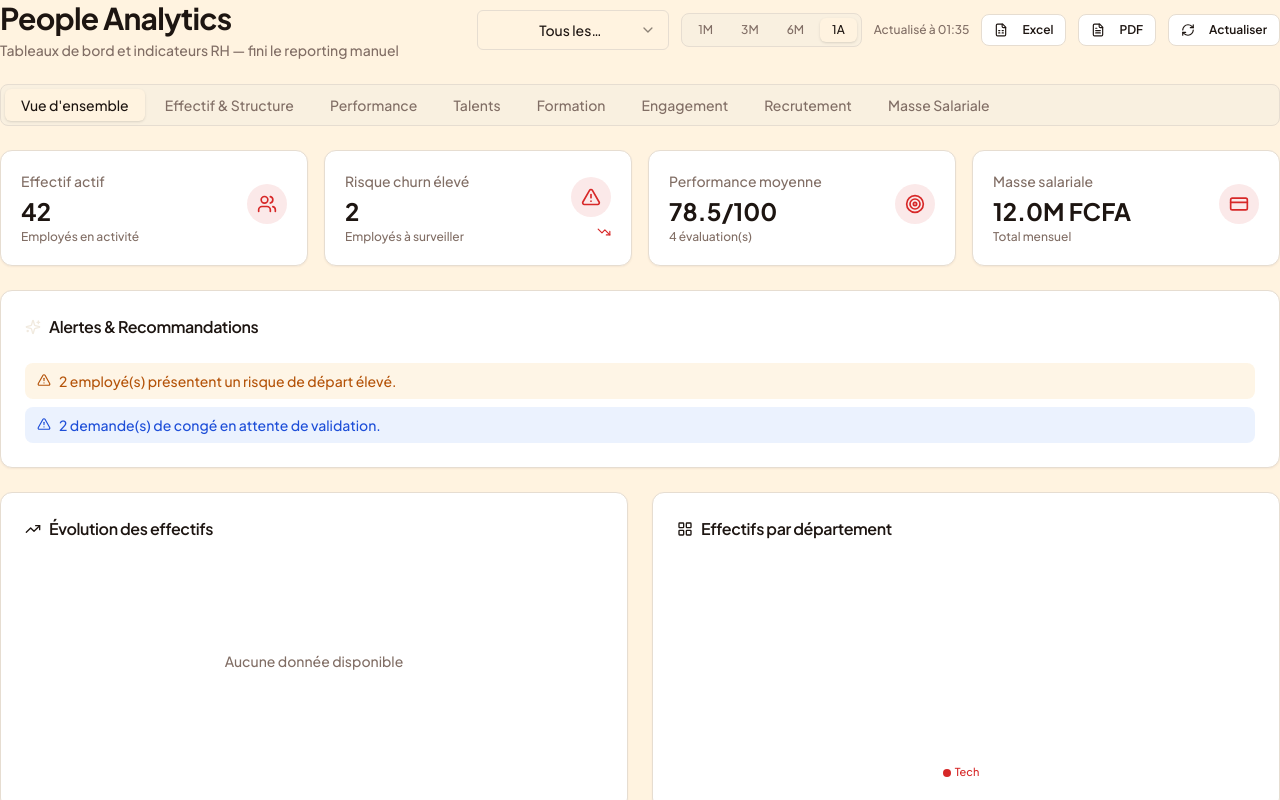
Test: AnalyticsPage › affiche la section Recrutement en changeant d'onglet
This screenshot has width=1280, height=800.
Expected: the text "Effectif actif" is shown, x1=21 y1=172 x2=105 y2=190
Click the button "Recrutement". click: (808, 105)
box: x1=748 y1=89 x2=868 y2=121
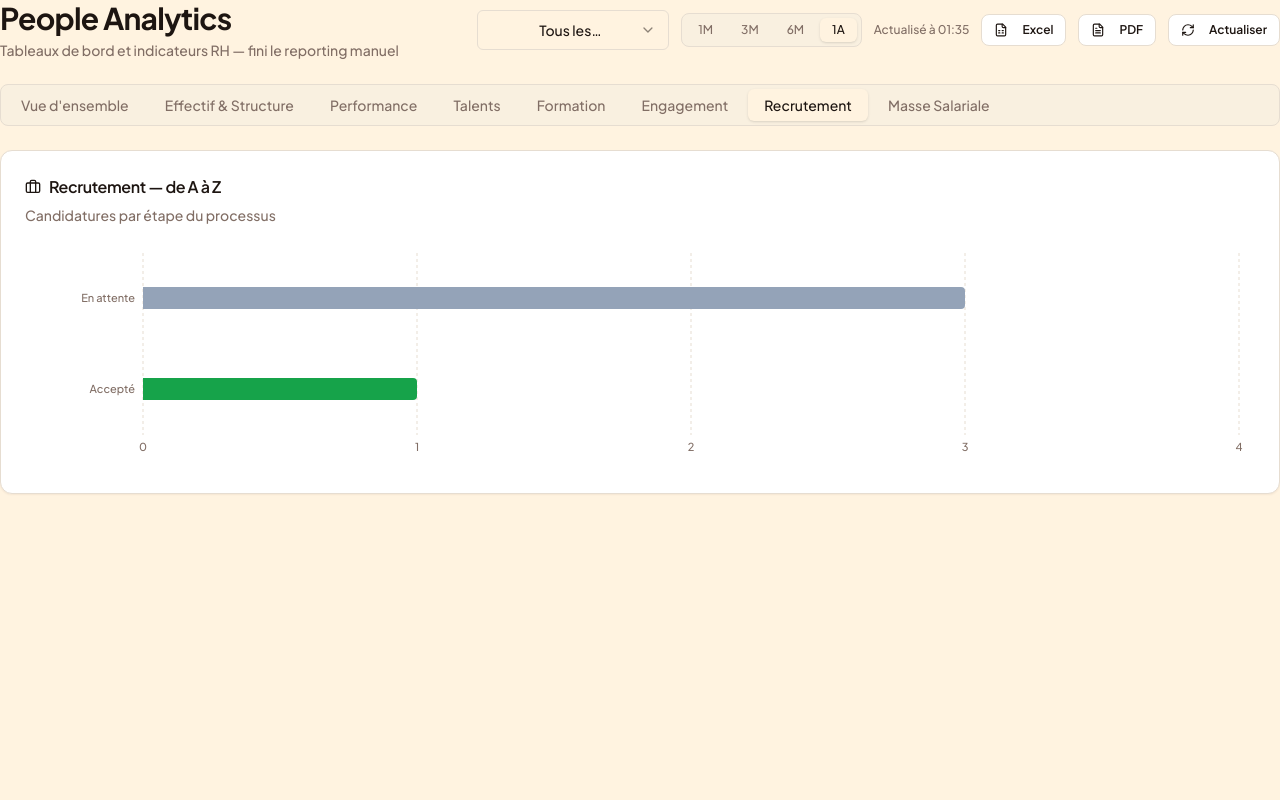
Result: the heading "Recrutement — de A à Z" is shown at x1=25 y1=176 x2=221 y2=197
